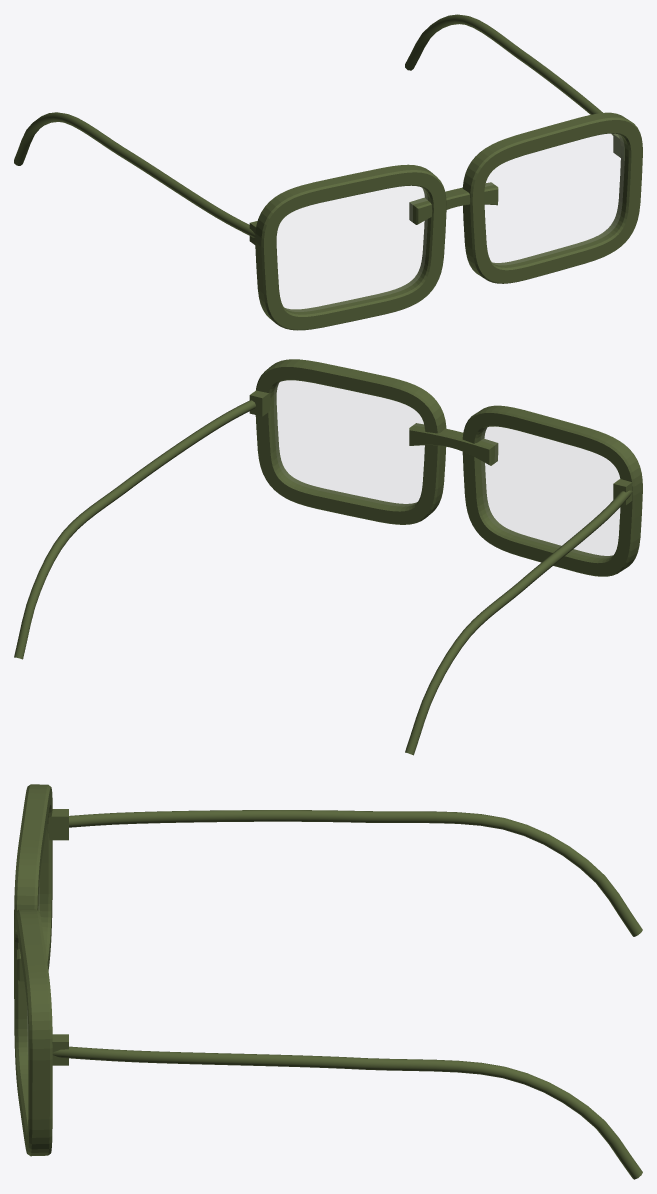
The model's file is BM-M12_Loch_Olive.glb.
3 views of the same model, one above another, from view 1: azimuth 30°, elevation 25°; view 2: azimuth 150°, elevation 25°; view 3: azimuth 270°, elevation 25° (orthographic). The views are drawn at different scales.
Visible parts, largest first — view 1: Loch_Olive_Acetate, Loch_Olive_Lenses; view 2: Loch_Olive_Acetate, Loch_Olive_Lenses; view 3: Loch_Olive_Acetate.
Boxes of the visible parts, <box> form: Loch_Olive_Acetate: <box>14,14,642,330</box>; Loch_Olive_Lenses: <box>277,134,623,311</box>; Loch_Olive_Acetate: <box>14,359,642,755</box>; Loch_Olive_Lenses: <box>274,381,619,557</box>; Loch_Olive_Acetate: <box>14,784,642,1179</box>.
Bounding box in the file's own units: 0.1415 × 0.0465 × 0.1481.
